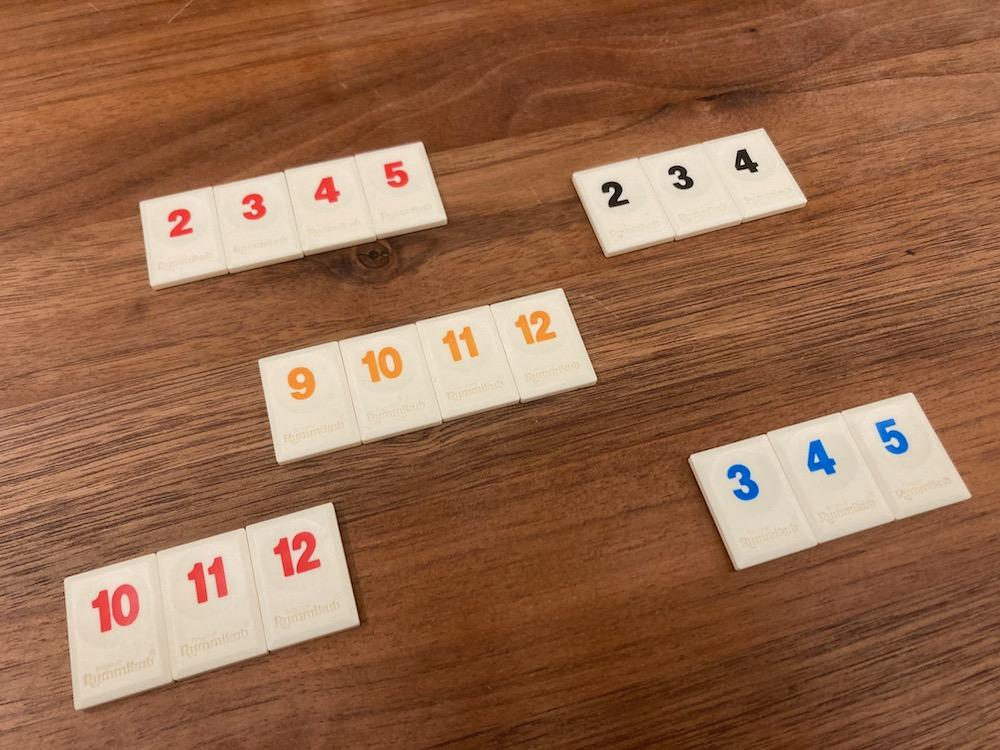black_2: (574, 158, 674, 256)
black_3: (642, 145, 742, 240)
black_4: (703, 129, 807, 221)
blue_3: (689, 436, 816, 570)
blue_4: (768, 414, 893, 543)
blue_5: (843, 393, 971, 520)
orange_10: (340, 324, 441, 443)
orange_11: (417, 305, 520, 420)
orange_12: (491, 289, 596, 402)
orange_9: (260, 342, 361, 463)
red_10: (64, 555, 172, 709)
red_11: (156, 529, 268, 680)
red_12: (248, 504, 359, 650)
red_2: (141, 188, 227, 289)
red_3: (215, 172, 303, 273)
red_4: (286, 158, 375, 256)
red_5: (355, 143, 447, 238)
